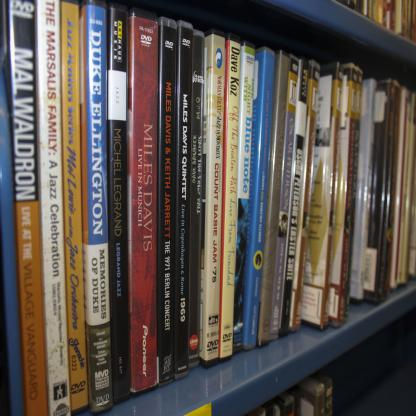book: (38, 0, 416, 416), (2, 0, 38, 416), (256, 374, 336, 416), (341, 0, 415, 45)
